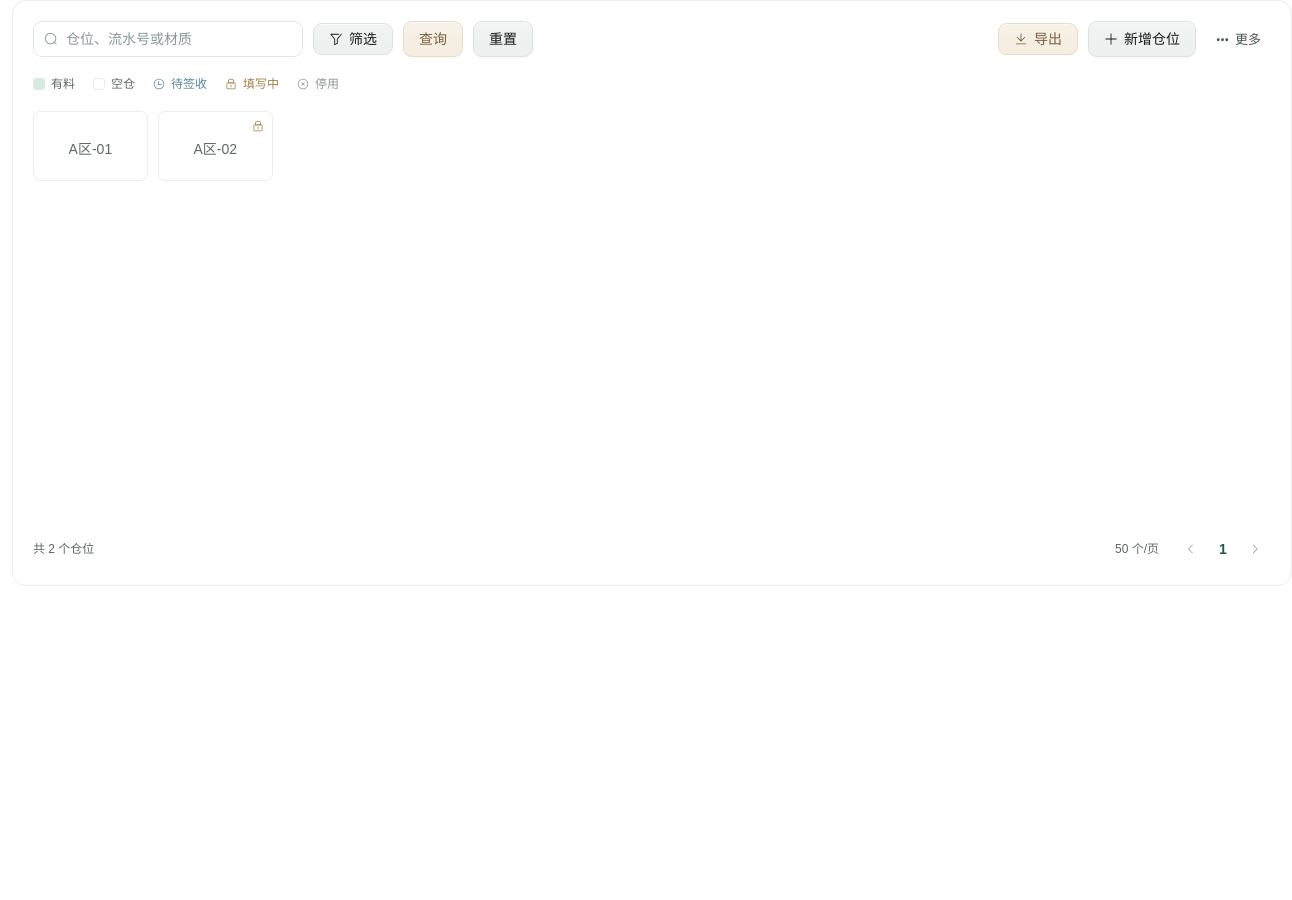
Test: warehouse management › prevents editing a form-locked slot and passes the current version for a free slot
The width and height of the screenshot is (1292, 900).
What coordinates should you click on to do the following:
click the button with class "warehouse-slot" showing "A区-02"
I would click on:
 (215, 146)
Its box is [158,111,273,181].
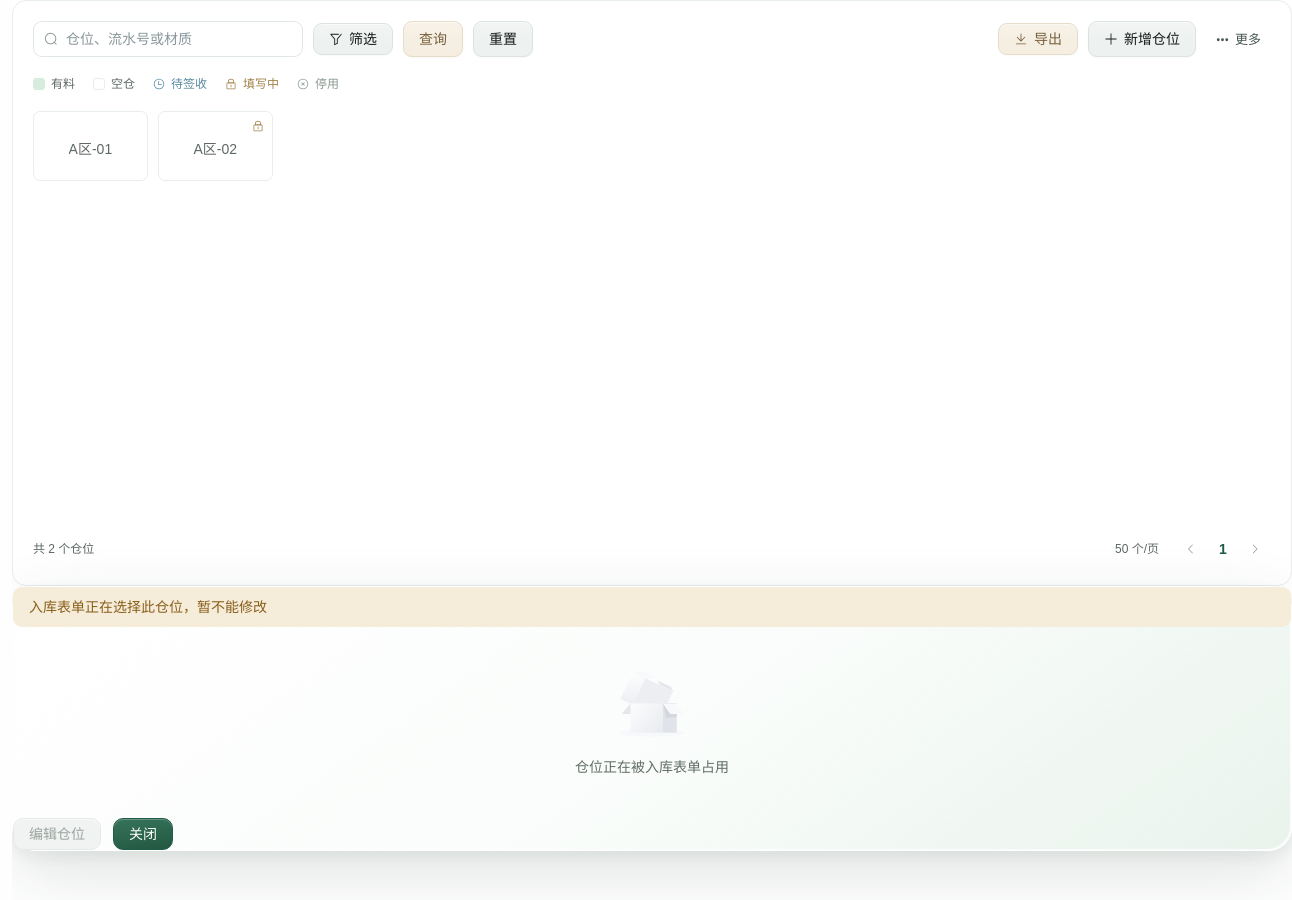
Expected: the button "编辑仓位" is disabled, [13,818,101,850]
What coordinates should you click on to do the following:
click the button "关闭"
I would click on:
 (143, 834)
Its box is [113,818,173,850].
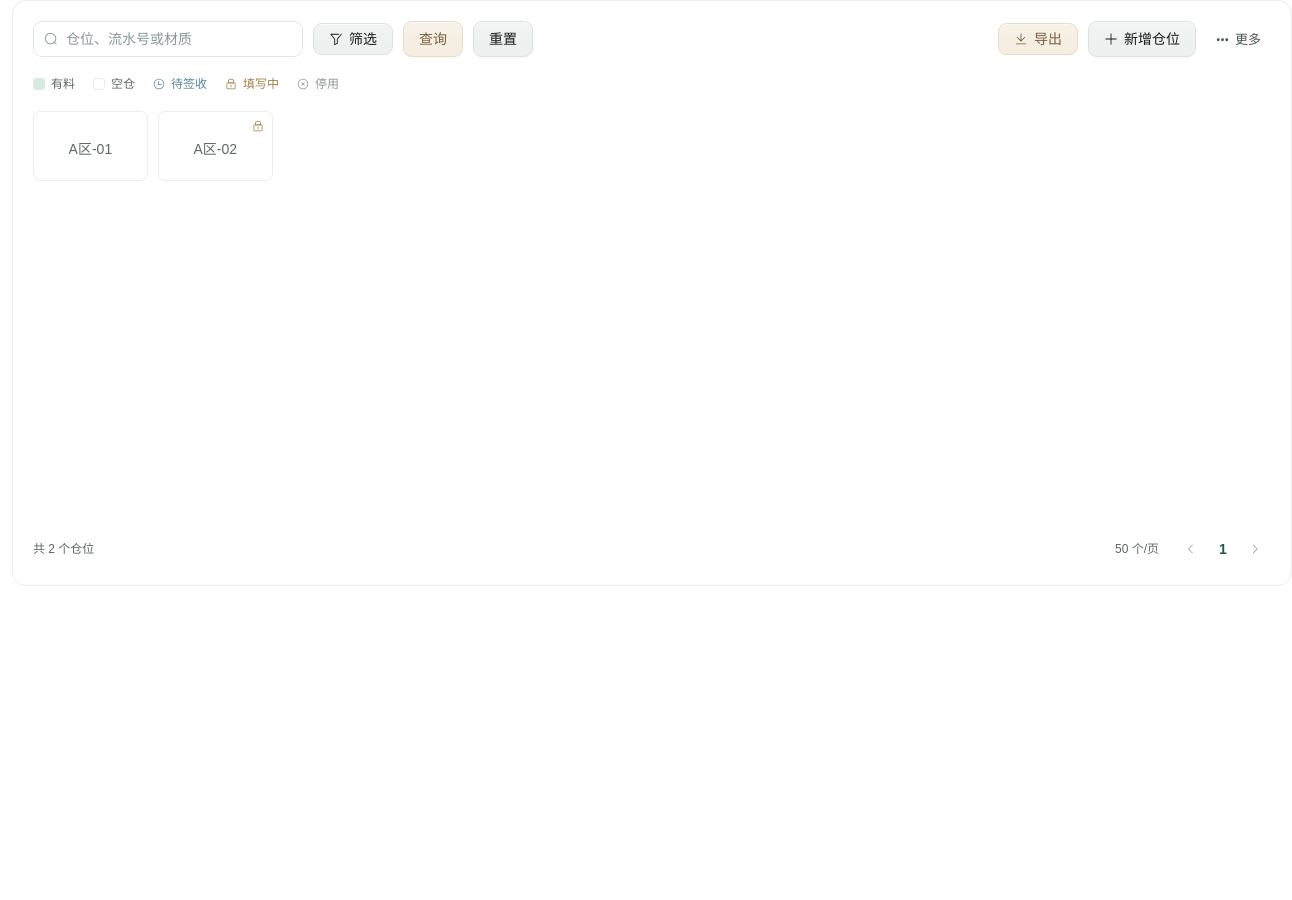
What coordinates should you click on to do the following:
click the button with class "warehouse-slot" showing "A区-01"
I would click on:
 (90, 146)
Its box is [33,111,148,181].
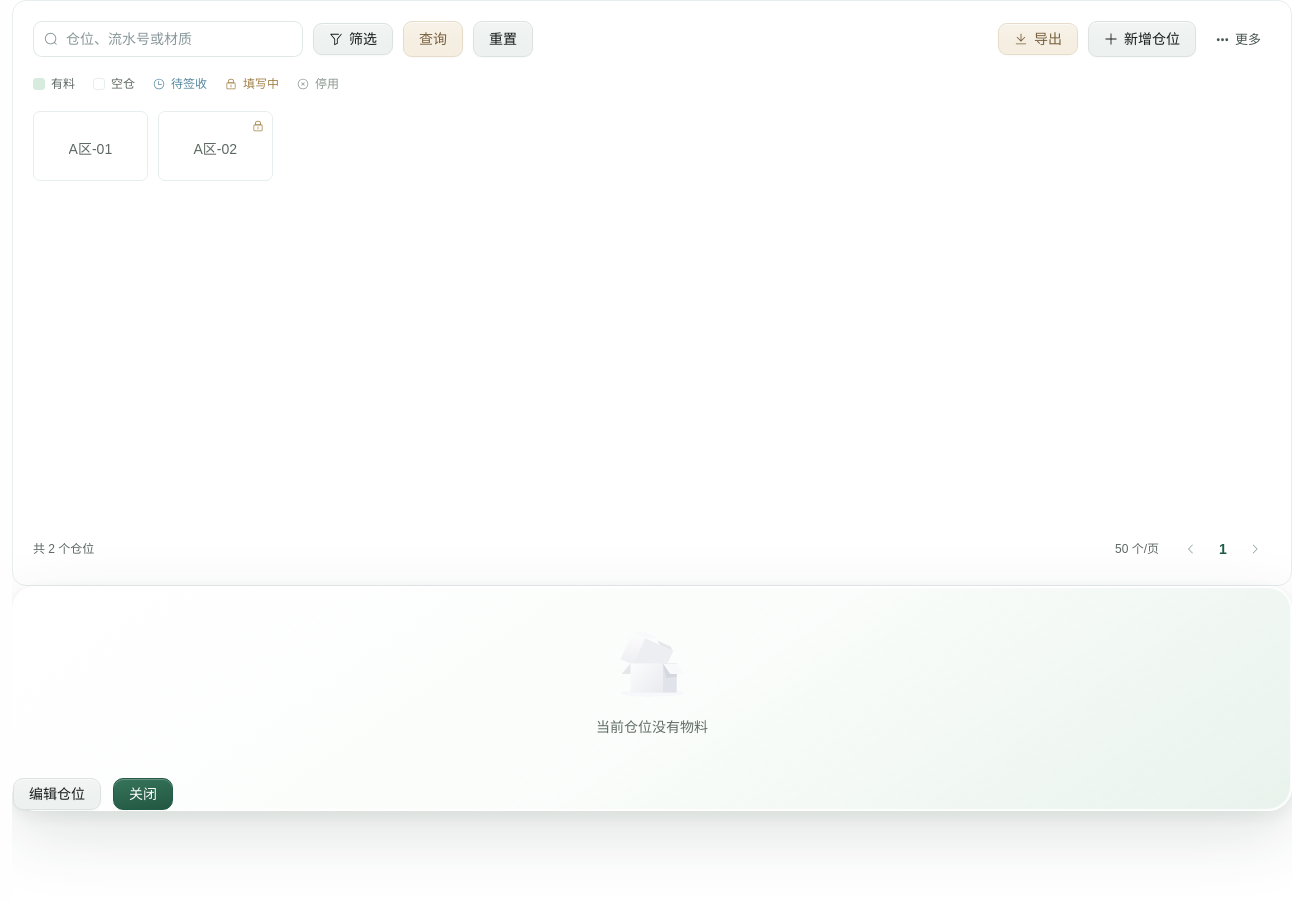
What coordinates should you click on to do the following:
click the button "编辑仓位"
I would click on:
 (57, 794)
Its box is [13,778,101,810].
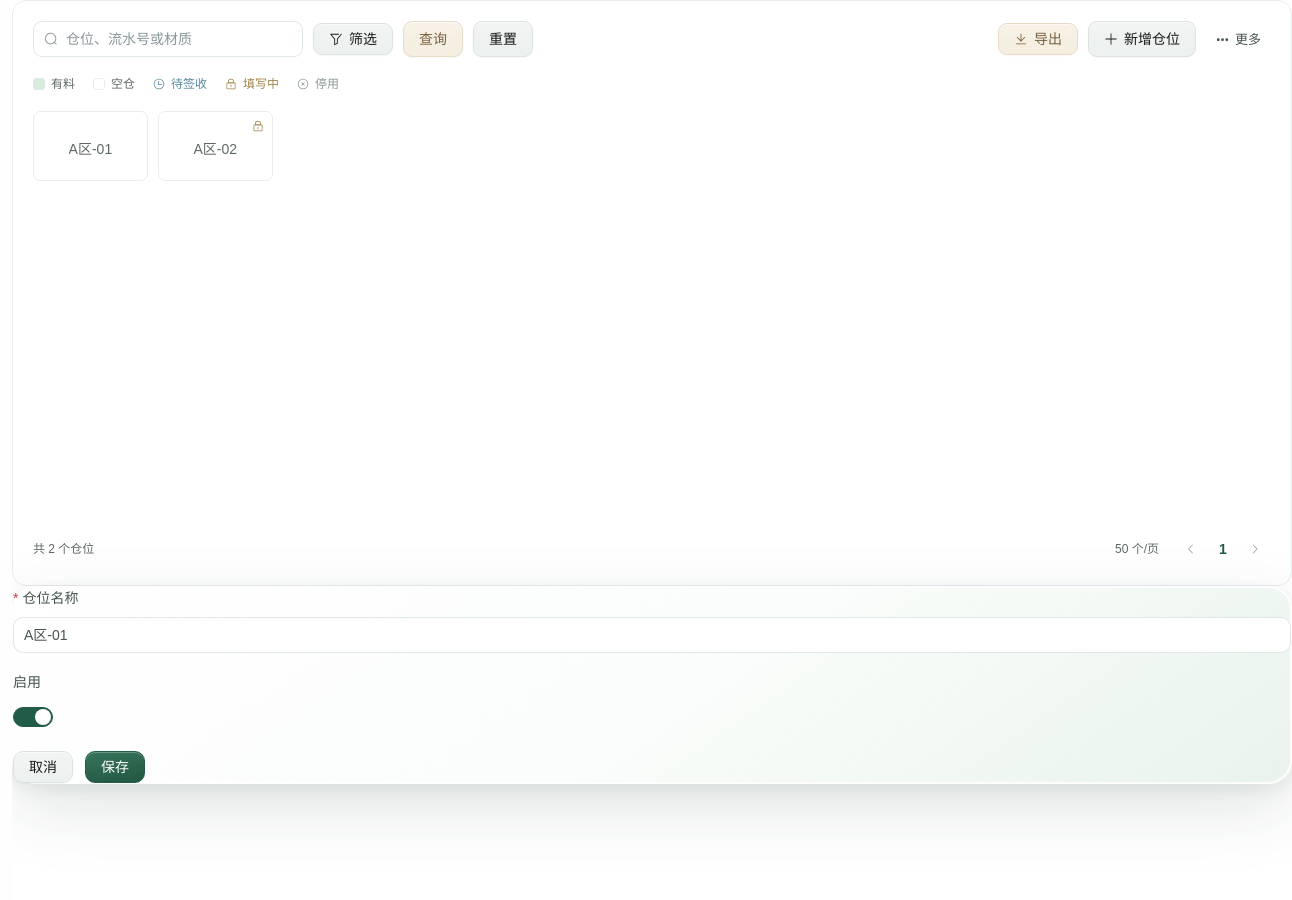
What coordinates should you click on to do the following:
click the button "保存"
I would click on:
 (115, 767)
Its box is [85,751,145,783].
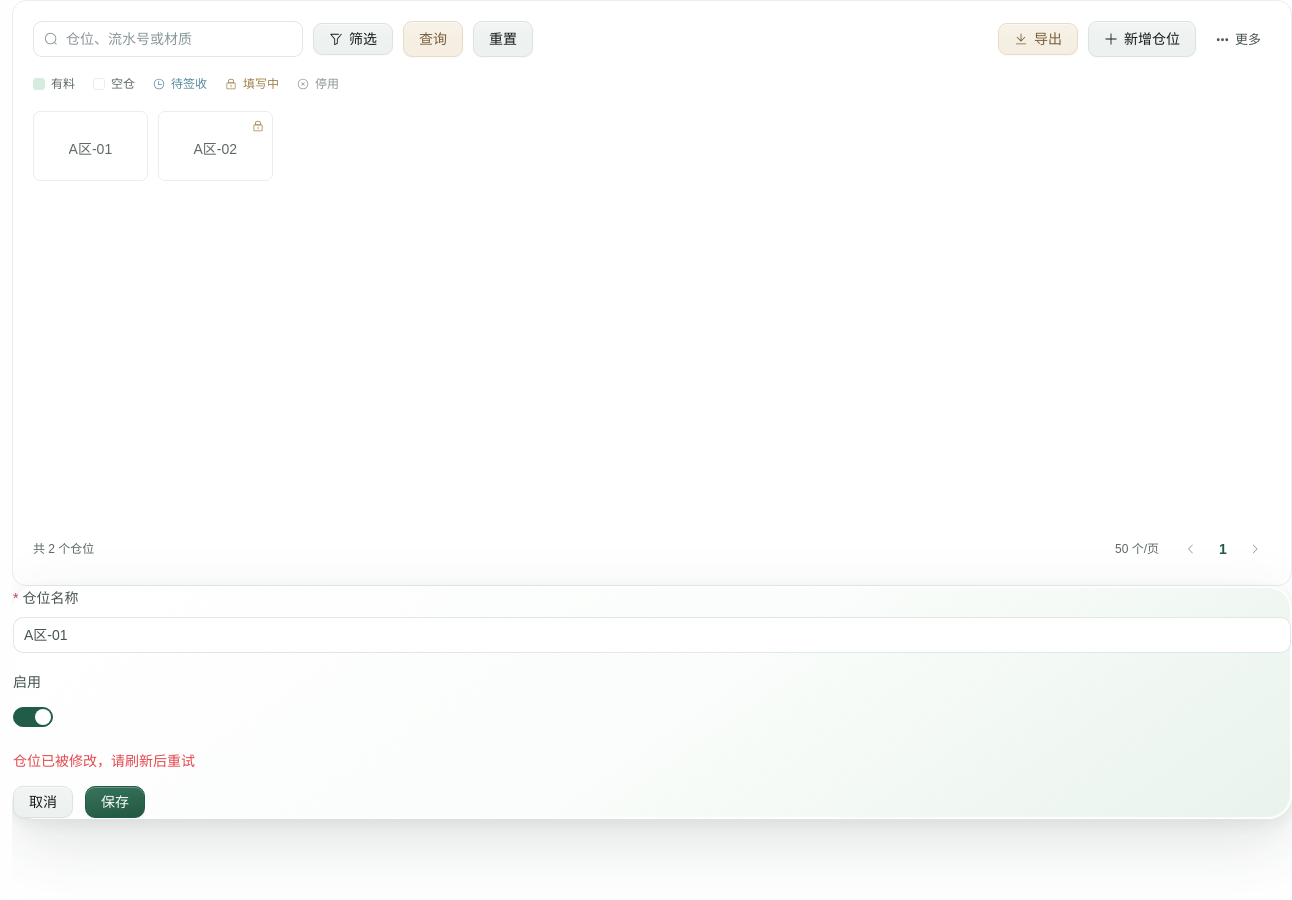
Expected: the message "仓位已被修改，请刷新后重试" is shown, [13,753,195,769]
